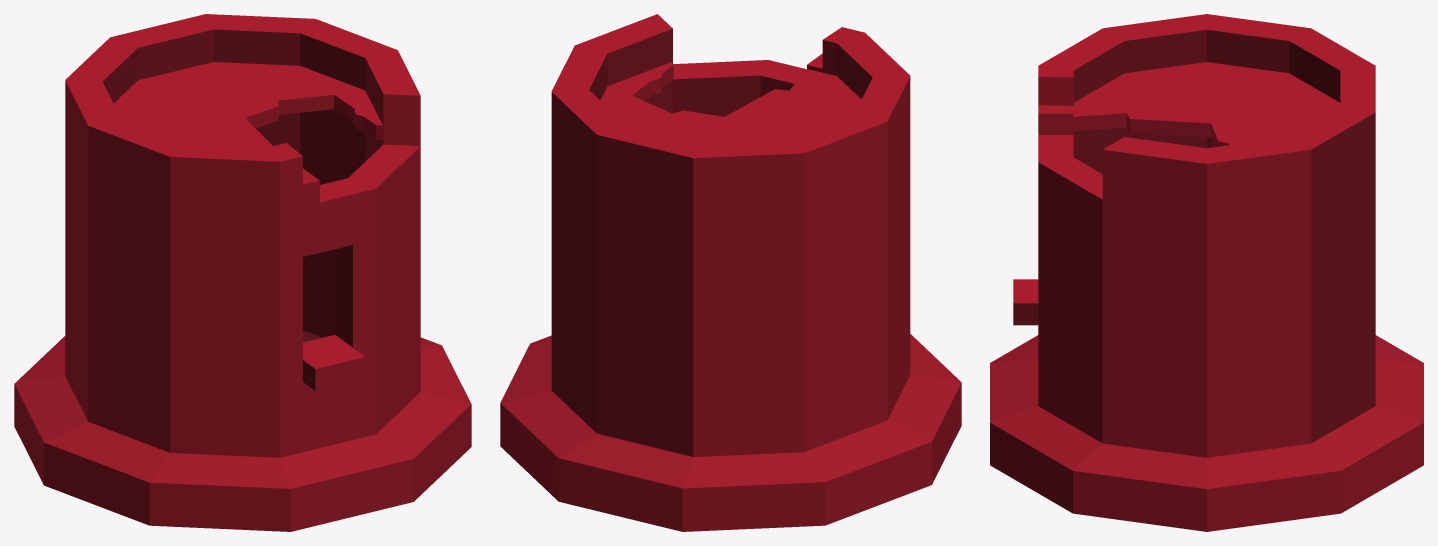
The model's file is clinder_house_B2.fbx.
The picture shows the model from 3 angles, left to right: view 1: azimuth 30°, elevation 25°; view 2: azimuth 150°, elevation 25°; view 3: azimuth 270°, elevation 25°; orthographic projection.
Visible parts, largest first — view 1: clinder_house_B2; view 2: clinder_house_B2; view 3: clinder_house_B2.
Boxes of the visible parts, <box> form: clinder_house_B2: <box>14,14,471,531</box>; clinder_house_B2: <box>500,14,961,531</box>; clinder_house_B2: <box>990,14,1423,531</box>.
Bounding box in the file's own units: 298 × 250 × 283.
